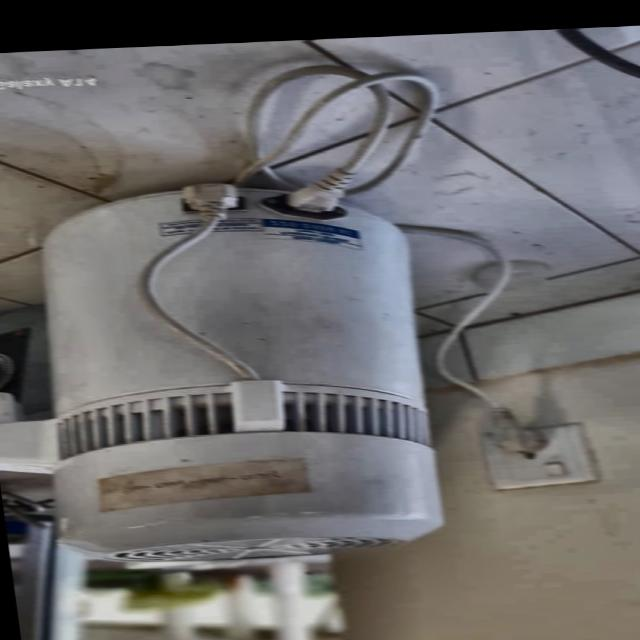Distilled Water Maker: (0, 166, 477, 570)
